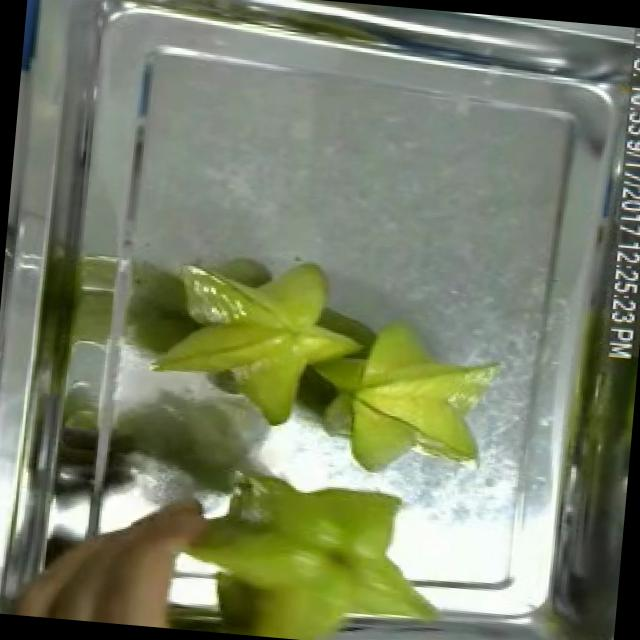fruit: (136, 239, 390, 449), (191, 452, 449, 640), (336, 304, 516, 490), (25, 494, 216, 631)
